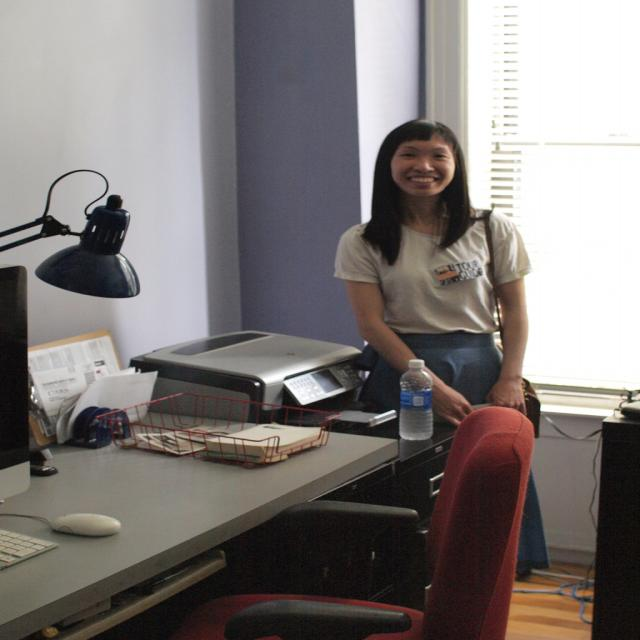chair: (172, 405, 542, 640)
desk: (0, 413, 398, 639)
keyboard: (0, 528, 59, 571)
mouse: (48, 512, 122, 537)
person: (334, 118, 534, 430)
